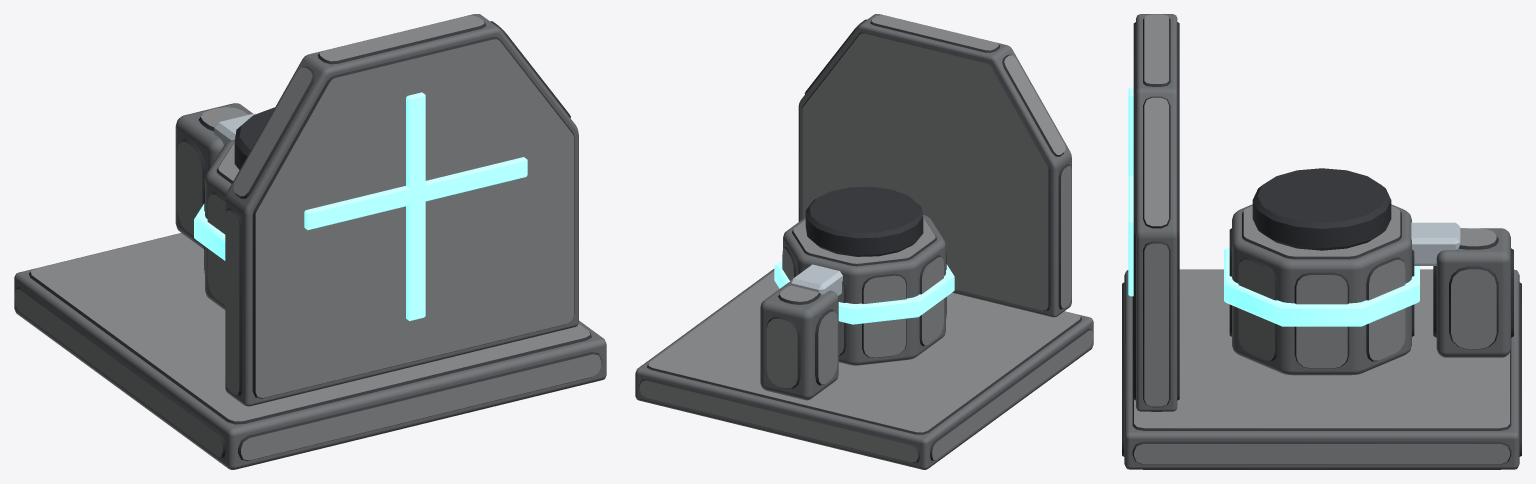
The model's file is R4X_DefensiveTurretDeployer.glb.
The picture shows the model from 3 angles, left to right: view 1: azimuth 30°, elevation 25°; view 2: azimuth 150°, elevation 25°; view 3: azimuth 270°, elevation 25°; orthographic projection. The views are drawn at different scales.
Visible parts, largest first — view 1: R4X_DefensiveTurretDeployer_Pod, R4X_DefensiveTurretDeployer_Body; view 2: R4X_DefensiveTurretDeployer_Pod, R4X_DefensiveTurretDeployer_Body; view 3: R4X_DefensiveTurretDeployer_Body, R4X_DefensiveTurretDeployer_Pod.
Boxes of the visible parts, left/top/right/bottom form: R4X_DefensiveTurretDeployer_Pod: left=194, top=14, right=578, bottom=406; R4X_DefensiveTurretDeployer_Body: left=14, top=103, right=606, bottom=469; R4X_DefensiveTurretDeployer_Pod: left=774, top=14, right=1071, bottom=365; R4X_DefensiveTurretDeployer_Body: left=635, top=264, right=1093, bottom=469; R4X_DefensiveTurretDeployer_Body: left=1122, top=222, right=1521, bottom=469; R4X_DefensiveTurretDeployer_Pod: left=1128, top=14, right=1419, bottom=411.
Size of the model in its own units: 0.52 by 0.49 by 0.52.
